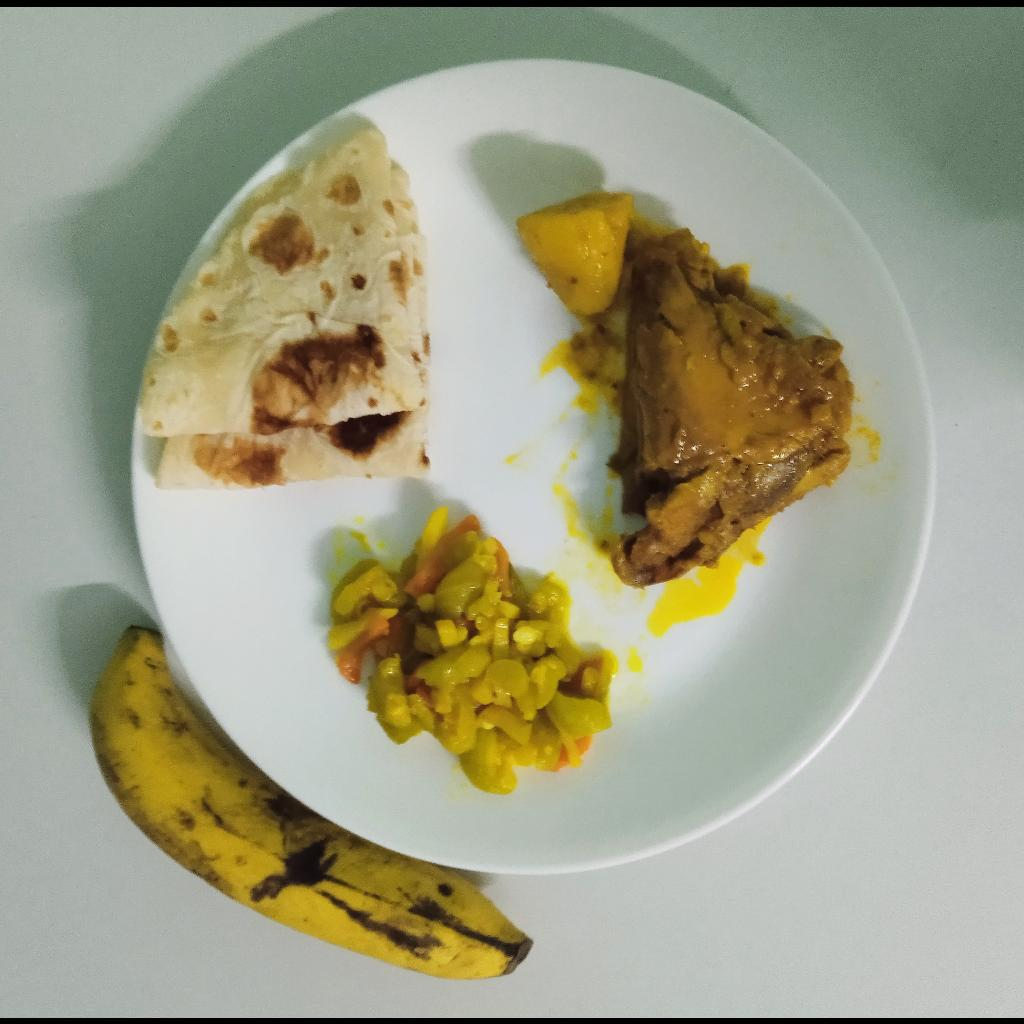banana: (90, 628, 531, 981)
chicken: (600, 223, 854, 586)
potato: (521, 187, 631, 317)
ruti: (135, 123, 431, 490)
vegetable: (327, 505, 615, 796)
